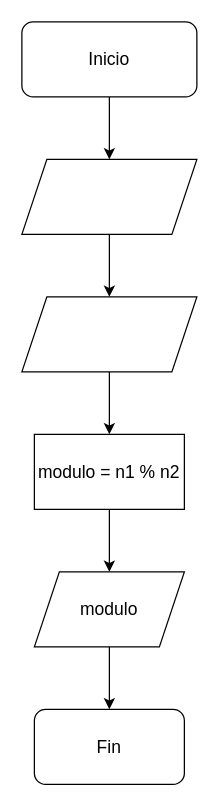
Image size: 219x806. Some labels were removed from this diagram. Each missing label, with the centre of its shape:
Inserte otro valor: (x=109, y=334)
Inserte un valor: (x=109, y=196)
